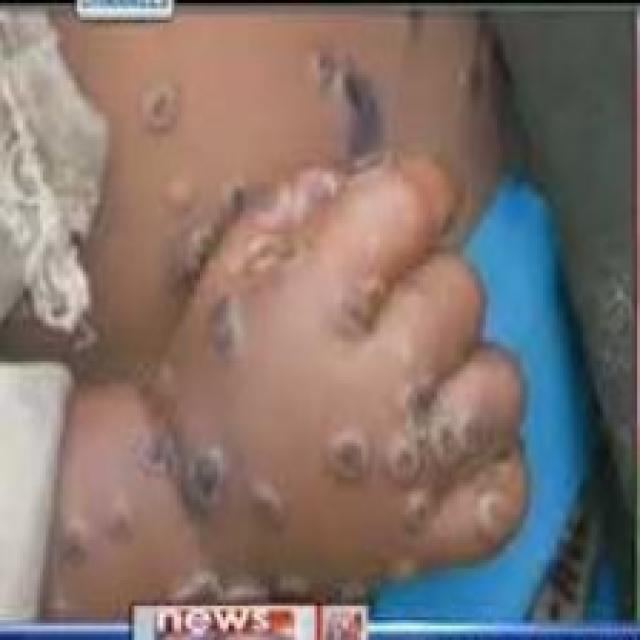Eczema: (71, 73, 510, 588)
